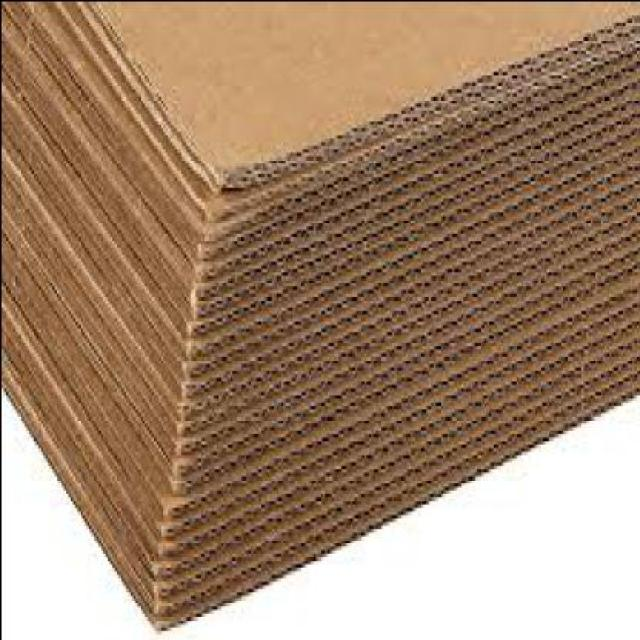cardboard: (0, 1, 638, 629), (66, 1, 639, 168)
